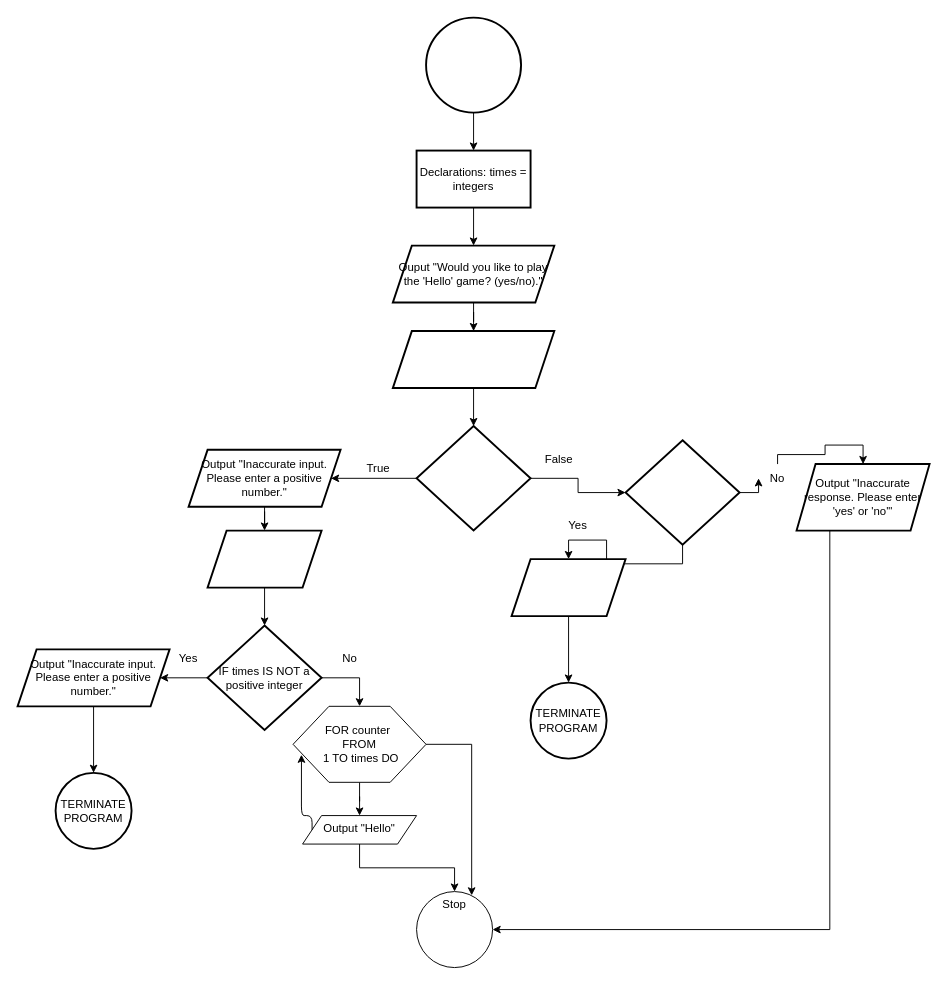
This 946x984 diagram has some shape labels left out. Each missing label, with the centre of its shape:
IF userResponse = 'no' or 'No' or 'NO': (682,492)
IF userResponse = 'yes' or 'Yes' or 'YES' THEN: (473,478)
Input times: (264,558)
Input userResponse: (473,359)
Output "Alright, thank you!": (568,587)
Start: (473,64)
